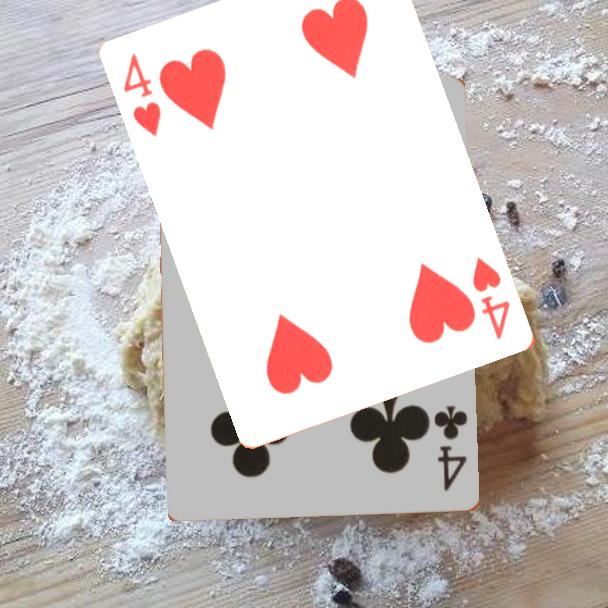c04: (431, 402, 471, 495)
h04: (469, 253, 514, 344), (120, 50, 165, 141)
